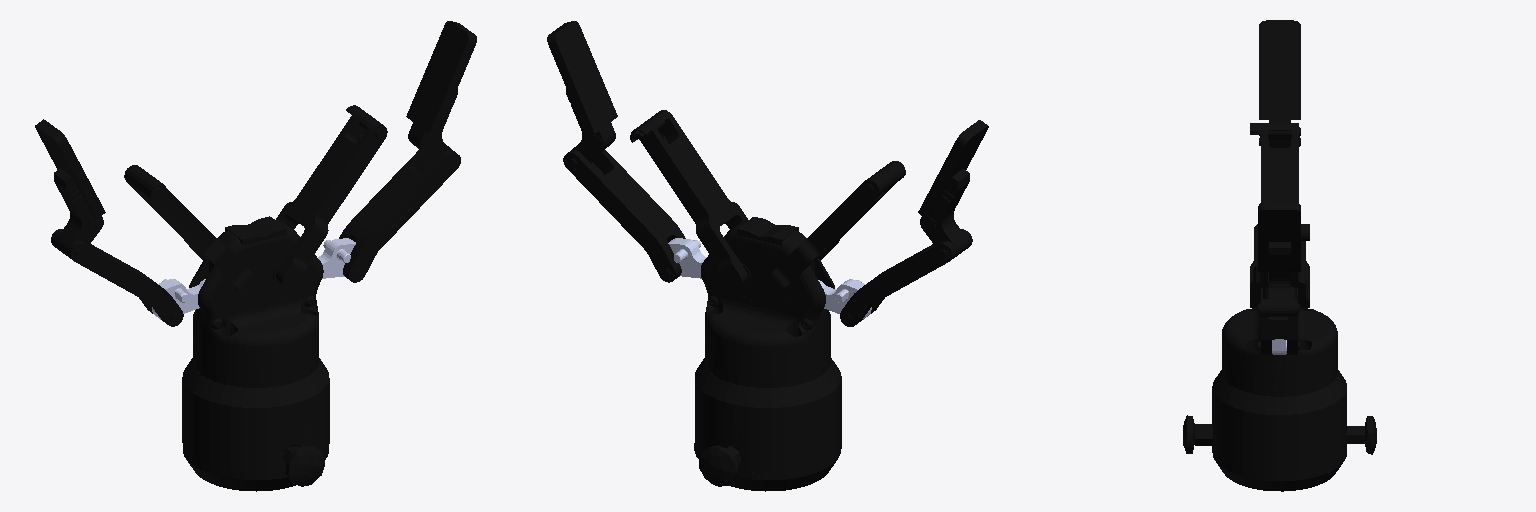
robot.urdf — robotiq_gripper:
<?xml version="1.0" ?>
<!-- =================================================================================== -->
<!-- |    This document was autogenerated by xacro from [local-path]/ros2_crystal/src/mara/robotiq_140_gripper_description/urdf/module_gripper.urdf.xacro | -->
<!-- |    EDITING THIS FILE BY HAND IS NOT RECOMMENDED                                 | -->
<!-- =================================================================================== -->
<robot name="robotiq_gripper" xmlns:xacro="http://ros.org/wiki/xacro">
  <link name="robotiq_adapter_link">
    <inertial>
      <origin rpy="0 0 0" xyz="8.625E-08 -4.6583E-06 0.03145"/>
      <mass value="0.22652"/>
      <inertia ixx="0.00020005" ixy="0" ixz="0" iyy="0.00017832" iyz="0" izz="0.00013478"/>
    </inertial>
    <visual>
      <origin rpy="0 0 0" xyz="0 0 0"/>
      <geometry>
        <mesh filename="package://robotiq_85_gripper_description/meshes/hros_robotiq_adapter.dae" scale="0.001 0.001 0.001"/>
      </geometry>
      <material name="Gazebo/Black">
        <color rgba="0.1 0.1 0.1 1"/>
      </material>
    </visual>
    <collision>
      <origin rpy="0 0 0" xyz="0 0 0"/>
      <geometry>
        <mesh filename="package://robotiq_85_gripper_description/meshes/hros_robotiq_adapter.dae" scale="0.001 0.001 0.001"/>
      </geometry>
    </collision>
  </link>
  <gazebo reference="robotiq_adapter_link">
    <material>Gazebo/Black</material>
    <selfCollide>True</selfCollide>
  </gazebo>
  <link name="robotiq_arg2f_base_link">
    <inertial>
      <origin rpy="0 0 0" xyz="8.625E-08 -4.6583E-06 0.03145"/>
      <mass value="0.22652"/>
      <inertia ixx="0.00020005" ixy="0" ixz="0" iyy="0.00017832" iyz="0" izz="0.00013478"/>
    </inertial>
    <visual>
      <origin rpy="0 0 1.57" xyz="0 0 0"/>
      <geometry>
        <mesh filename="package://robotiq_140_gripper_description/meshes/GRIPPER_base_axis.dae" scale="0.001 0.001 0.001"/>
      </geometry>
      <material name="Gazebo/Black">
        <color rgba="0.1 0.1 0.1 1"/>
      </material>
    </visual>
    <collision>
      <origin rpy="0 0 1.57" xyz="0 0 0"/>
      <geometry>
        <mesh filename="package://robotiq_140_gripper_description/meshes/GRIPPER_base_axis.dae" scale="0.001 0.001 0.001"/>
      </geometry>
    </collision>
  </link>
  <gazebo reference="robotiq_arg2f_base_link">
    <material>Gazebo/Black</material>
    <selfCollide>True</selfCollide>
  </gazebo>
  <link name="left_outer_knuckle">
    <inertial>
      <origin rpy="0 0 0" xyz="0 0 0"/>
      <mass value="0.00853198276973456"/>
      <inertia ixx="2.89328108496468E-06" ixy="0" ixz="0" iyy="1.86719750325683E-06" iyz="-1.21858577871576E-06" izz="1.21905238907251E-06"/>
    </inertial>
    <visual>
      <origin rpy="0 0 0" xyz="0 0 0"/>
      <geometry>
        <mesh filename="package://robotiq_140_gripper_description/meshes/robotiq_140_left_outer_knuckle.dae"/>
      </geometry>
      <material name="">
        <color rgba="0.792156862745098 0.819607843137255 0.933333333333333 1"/>
      </material>
    </visual>
    <collision>
      <origin rpy="0 0 0" xyz="0 0 0"/>
      <geometry>
        <mesh filename="package://robotiq_140_gripper_description/meshes/robotiq_140_left_outer_knuckle.dae"/>
      </geometry>
    </collision>
  </link>
  <gazebo reference="left_outer_knuckle">
    <material>Gazebo/Grey</material>
    <selfCollide>True</selfCollide>
  </gazebo>
  <link name="right_outer_knuckle">
    <inertial>
      <origin rpy="0 0 0" xyz="0 0 0"/>
      <mass value="0.00853198276973456"/>
      <inertia ixx="2.89328108496468E-06" ixy="0" ixz="0" iyy="1.86719750325683E-06" iyz="-1.21858577871576E-06" izz="1.21905238907251E-06"/>
    </inertial>
    <visual>
      <origin rpy="0 0 0" xyz="0 0 0"/>
      <geometry>
        <mesh filename="package://robotiq_140_gripper_description/meshes/robotiq_140_right_outer_knuckle.dae"/>
      </geometry>
      <material name="">
        <color rgba="0.792156862745098 0.819607843137255 0.933333333333333 1"/>
      </material>
    </visual>
    <collision>
      <origin rpy="0 0 0" xyz="0 0 0"/>
      <geometry>
        <mesh filename="package://robotiq_140_gripper_description/meshes/robotiq_140_right_outer_knuckle.dae"/>
      </geometry>
    </collision>
  </link>
  <gazebo reference="right_outer_knuckle">
    <material>Gazebo/Grey</material>
    <selfCollide>True</selfCollide>
  </gazebo>
  <link name="left_inner_knuckle">
    <inertial>
      <origin rpy="0 0 0" xyz="0.000123011831763771 0.0507850843201817 0.00103968640075166"/>
      <mass value="0.0271177346495152"/>
      <inertia ixx="2.61910379223783E-05" ixy="-2.43616858946494E-07" ixz="-6.37789906117123E-09" iyy="2.8270243746167E-06" iyz="-5.37200748039765E-07" izz="2.83695868220296E-05"/>
    </inertial>
    <visual>
      <origin rpy="0 0 0" xyz="0 0 0"/>
      <geometry>
        <mesh filename="package://robotiq_140_gripper_description/meshes/robotiq_140_left_inner_knuckle.dae"/>
      </geometry>
      <material name="Gazebo/Black">
        <color rgba="0.1 0.1 0.1 1"/>
      </material>
    </visual>
  </link>
  <gazebo reference="left_inner_knuckle">
    <material>Gazebo/Black</material>
    <selfCollide>True</selfCollide>
  </gazebo>
  <link name="right_inner_knuckle">
    <inertial>
      <origin rpy="0 0 0" xyz="0.000123011831763771 0.0507850843201817 0.00103968640075166"/>
      <mass value="0.0271177346495152"/>
      <inertia ixx="2.61910379223783E-05" ixy="-2.43616858946494E-07" ixz="-6.37789906117123E-09" iyy="2.8270243746167E-06" iyz="-5.37200748039765E-07" izz="2.83695868220296E-05"/>
    </inertial>
    <visual>
      <origin rpy="0 0 0" xyz="0 0 0"/>
      <geometry>
        <mesh filename="package://robotiq_140_gripper_description/meshes/robotiq_140_right_inner_knuckle.dae"/>
      </geometry>
      <material name="Gazebo/Black">
        <color rgba="0.1 0.1 0.1 1"/>
      </material>
    </visual>
  </link>
  <gazebo reference="right_inner_knuckle">
    <material>Gazebo/Black</material>
    <selfCollide>True</selfCollide>
  </gazebo>
  <link name="left_inner_finger">
    <inertial>
      <origin rpy="0 0 0" xyz="0.0 0.031506174 -0.017648840"/>
      <mass value="0.0104003125914103"/>
      <inertia ixx="6.06863499e-06" ixy="0" ixz="0" iyy="7.46305064e-07" iyz="0" izz="6.21796490e-06"/>
    </inertial>
    <visual>
      <origin rpy="0 0 0" xyz="0 0 0"/>
      <geometry>
        <mesh filename="package://robotiq_140_gripper_description/meshes/robotiq_140_left_inner_finger.dae" scale="0.001 0.001 0.001"/>
      </geometry>
      <material name="Gazebo/Black">
        <color rgba="0.1 0.1 0.1 1"/>
      </material>
    </visual>
    <collision>
      <origin rpy="0 0 0" xyz="0 0 0"/>
      <geometry>
        <mesh filename="package://robotiq_140_gripper_description/meshes/robotiq_140_left_inner_finger.dae" scale="0.001 0.001 0.001"/>
      </geometry>
    </collision>
  </link>
  <gazebo reference="left_inner_finger">
    <material>Gazebo/Black</material>
    <selfCollide>True</selfCollide>
  </gazebo>
  <link name="right_inner_finger">
    <inertial>
      <origin rpy="0 0 0" xyz="0.0 0.031506174 -0.017648840"/>
      <mass value="0.0104003125914103"/>
      <inertia ixx="6.06863499e-06" ixy="0" ixz="0" iyy="7.46305064e-07" iyz="0" izz="6.21796490e-06"/>
    </inertial>
    <visual>
      <origin rpy="0 0 0" xyz="0 0 0"/>
      <geometry>
        <mesh filename="package://robotiq_140_gripper_description/meshes/robotiq_140_right_inner_finger.dae" scale="0.001 0.001 0.001"/>
      </geometry>
      <material name="Gazebo/Black">
        <color rgba="0.1 0.1 0.1 1"/>
      </material>
    </visual>
    <collision>
      <origin rpy="0 0 0" xyz="0 0 0"/>
      <geometry>
        <mesh filename="package://robotiq_140_gripper_description/meshes/robotiq_140_right_inner_finger.dae" scale="0.001 0.001 0.001"/>
      </geometry>
    </collision>
  </link>
  <gazebo reference="right_inner_finger">
    <material>Gazebo/Black</material>
    <selfCollide>True</selfCollide>
  </gazebo>
  <link name="left_outer_finger">
    <inertial>
      <origin rpy="0 0 0" xyz="0.00030115855001899 0.0373907951953854 -0.0208027427000385"/>
      <mass value="0.022614240507152"/>
      <inertia ixx="1.52518312458174E-05" ixy="9.76583423954399E-10" ixz="-5.43838577022588E-10" iyy="6.17694243867776E-06" iyz="6.78636130740228E-06" izz="1.16494917907219E-05"/>
    </inertial>
    <visual>
      <origin rpy="0 0 0" xyz="0 0 0"/>
      <geometry>
        <mesh filename="package://robotiq_140_gripper_description/meshes/robotiq_140_left_outer_finger.dae"/>
      </geometry>
      <material name="Gazebo/Black">
        <color rgba="0.1 0.1 0.1 1"/>
      </material>
    </visual>
    <collision>
      <origin rpy="0 0 0" xyz="0 0 0"/>
      <geometry>
        <mesh filename="package://robotiq_140_gripper_description/meshes/robotiq_140_left_outer_finger.dae"/>
      </geometry>
    </collision>
  </link>
  <gazebo reference="left_outer_finger">
    <material>Gazebo/Black</material>
    <selfCollide>True</selfCollide>
  </gazebo>
  <link name="right_outer_finger">
    <inertial>
      <origin rpy="0 0 0" xyz="0.00030115855001899 0.0373907951953854 -0.0208027427000385"/>
      <mass value="0.022614240507152"/>
      <inertia ixx="1.52518312458174E-05" ixy="9.76583423954399E-10" ixz="-5.43838577022588E-10" iyy="6.17694243867776E-06" iyz="6.78636130740228E-06" izz="1.16494917907219E-05"/>
    </inertial>
    <visual>
      <origin rpy="0 0 0" xyz="0 0 0"/>
      <geometry>
        <mesh filename="package://robotiq_140_gripper_description/meshes/robotiq_140_right_outer_finger.dae"/>
      </geometry>
      <material name="Gazebo/Black">
        <color rgba="0.1 0.1 0.1 1"/>
      </material>
    </visual>
    <collision>
      <origin rpy="0 0 0" xyz="0 0 0"/>
      <geometry>
        <mesh filename="package://robotiq_140_gripper_description/meshes/robotiq_140_right_outer_finger.dae"/>
      </geometry>
    </collision>
  </link>
  <gazebo reference="right_outer_finger">
    <material>Gazebo/Black</material>
    <selfCollide>True</selfCollide>
  </gazebo>
  <joint name="base_adapter_to_base_robotiq_joint" type="fixed">
    <origin rpy="0 0 0" xyz=" 0 0 0.03653"/>
    <parent link="robotiq_adapter_link"/>
    <child link="robotiq_arg2f_base_link"/>
  </joint>
  <joint name="left_outer_knuckle_joint" type="revolute">
    <origin rpy="2.31 0 0" xyz="0 -0.030601 0.054905"/>
    <parent link="robotiq_arg2f_base_link"/>
    <child link="left_outer_knuckle"/>
    <axis xyz="-1 0 0"/>
    <limit effort="1000" lower="0" upper="0.78" velocity="2.0"/>
  </joint>
  <joint name="right_outer_knuckle_joint" type="revolute">
    <origin rpy="2.31 0 3.14159265359" xyz="0 0.030601 0.054905"/>
    <parent link="robotiq_arg2f_base_link"/>
    <child link="right_outer_knuckle"/>
    <axis xyz="-1 0 0"/>
    <limit effort="1000" lower="0" upper="0.78" velocity="2.0"/>
  </joint>
  <joint name="left_inner_knuckle_joint" type="revolute">
    <origin rpy="2.29 0 0" xyz="0 -0.0127 0.06142"/>
    <parent link="robotiq_arg2f_base_link"/>
    <child link="left_inner_knuckle"/>
    <axis xyz="-1 0 0"/>
    <limit effort="1000" lower="0" upper="0.78" velocity="2.0"/>
  </joint>
  <joint name="right_inner_knuckle_joint" type="revolute">
    <origin rpy="2.29 0 -3.14159265359" xyz="0 0.0127 0.06142"/>
    <parent link="robotiq_arg2f_base_link"/>
    <child link="right_inner_knuckle"/>
    <axis xyz="-1 0 0"/>
    <limit effort="1000" lower="0" upper="0.78" velocity="2.0"/>
  </joint>
  <joint name="left_outer_finger_joint" type="revolute">
    <origin rpy="0 0 0" xyz="0 0.01821998610742 0.0260018192872234"/>
    <parent link="left_outer_knuckle"/>
    <child link="left_outer_finger"/>
    <axis xyz="-1 0 0"/>
    <limit effort="1000" lower="-0.875" upper="-0.0075" velocity="2.0"/>
  </joint>
  <joint name="right_outer_finger_joint" type="revolute">
    <origin rpy="0 0 0" xyz="0 0.01821998610742 0.0260018192872234"/>
    <parent link="right_outer_knuckle"/>
    <child link="right_outer_finger"/>
    <axis xyz="-1 0 0"/>
    <limit effort="1000" lower="-0.875" upper="-0.0075" velocity="2.0"/>
  </joint>
  <joint name="left_inner_finger_joint" type="revolute">
    <origin rpy="-.725 0 0" xyz="0 0.0817554015893473 -0.0282203446692936"/>
    <parent link="left_outer_finger"/>
    <child link="left_inner_finger"/>
    <axis xyz="1 0 0"/>
    <limit effort="1000" lower="-0.875" upper="0.8757" velocity="2.0"/>
  </joint>
  <joint name="right_inner_finger_joint" type="revolute">
    <origin rpy="-.725 0 0" xyz="0 0.0817554015893473 -0.0282203446692936"/>
    <parent link="right_outer_finger"/>
    <child link="right_inner_finger"/>
    <axis xyz="1 0 0"/>
    <limit effort="1000" lower="-0.875" upper="0.8757" velocity="2.0"/>
  </joint>
  <gazebo>
    <joint name="left_inner_finger_knuckle_joint" type="revolute">
      <pose frame="">0 0.006 -0.018 0 0 0</pose>
      <parent>robotiq_140::left_inner_knuckle</parent>
      <child>robotiq_140::left_inner_finger</child>
      <axis>
        <xyz>1 0 0</xyz>
        <limit>
          <lower>-0.8</lower>
          <upper>0.8</upper>
          <velocity>2.0</velocity>
          <effort>1000</effort>
        </limit>
      </axis>
    </joint>
    <joint name="right_inner_finger_knuckle_joint" type="revolute">
      <pose frame="">0 0.006 -0.018 0 0 0</pose>
      <parent>robotiq_140::right_inner_knuckle</parent>
      <child>robotiq_140::right_inner_finger</child>
      <axis>
        <xyz>-1 0 0</xyz>
        <limit>
          <lower>-0.8</lower>
          <upper>0.8</upper>
          <velocity>2.0</velocity>
          <effort>1000</effort>
        </limit>
      </axis>
    </joint>
    <plugin filename="librobotiq_angular_gripper_gazebo_plugin.so" name="robotiq_140_gripper">
      <left_joint>left_inner_knuckle_joint</left_joint>
      <left_joint>left_outer_knuckle_joint</left_joint>
      <right_joint>right_inner_knuckle_joint</right_joint>
      <right_joint>right_outer_knuckle_joint</right_joint>
    </plugin>
  </gazebo>
  <link name="world"/>
  <joint name="world_to_hande_joint" type="fixed">
    <origin rpy="0 0 1.57" xyz="0 0 0.5"/>
    <parent link="world"/>
    <child link="robotiq_adapter_link"/>
  </joint>
</robot>

--- Facts derived from the render (not from the file) ---
Views: 3 orthographic renders of the robot side by side, from view 1: azimuth 30°, elevation 25°; view 2: azimuth 150°, elevation 25°; view 3: azimuth 270°, elevation 25°.
Robot: robotiq_gripper — 11 links, 10 joints (8 revolute, 2 fixed); root link world; default pose: joints at zero except 2 at the middle of their limits (left_outer_finger_joint = -0.4412, right_outer_finger_joint = -0.4412).
Links seen in each view (by area): view 1: robotiq_arg2f_base_link, robotiq_adapter_link, left_inner_knuckle, left_outer_finger, left_inner_finger, right_inner_knuckle, right_inner_finger, right_outer_finger, left_outer_knuckle, right_outer_knuckle; view 2: robotiq_arg2f_base_link, robotiq_adapter_link, left_inner_knuckle, left_outer_finger, left_inner_finger, right_inner_knuckle, right_inner_finger, right_outer_finger, left_outer_knuckle, right_outer_knuckle; view 3: robotiq_adapter_link, robotiq_arg2f_base_link, right_inner_finger, left_inner_finger, right_inner_knuckle, left_outer_finger, left_inner_knuckle.
Boxes of the visible links, x1,y1,x2,y2 form: robotiq_arg2f_base_link: (189, 216, 323, 387); robotiq_adapter_link: (182, 358, 329, 491); left_inner_knuckle: (276, 105, 387, 288); left_outer_finger: (339, 150, 460, 282); left_inner_finger: (406, 21, 476, 161); right_inner_knuckle: (124, 165, 262, 297); right_inner_finger: (35, 119, 105, 255); right_outer_finger: (51, 229, 183, 326); left_outer_knuckle: (318, 238, 355, 278); right_outer_knuckle: (152, 279, 205, 319); robotiq_arg2f_base_link: (701, 217, 834, 387); robotiq_adapter_link: (694, 358, 841, 491); left_inner_knuckle: (630, 110, 747, 288); left_outer_finger: (563, 150, 685, 282); left_inner_finger: (547, 21, 617, 161); right_inner_knuckle: (761, 161, 905, 297); right_inner_finger: (918, 120, 988, 255); right_outer_finger: (840, 229, 972, 326); left_outer_knuckle: (668, 238, 706, 278); right_outer_knuckle: (818, 279, 871, 319); robotiq_adapter_link: (1183, 370, 1376, 491); robotiq_arg2f_base_link: (1222, 287, 1337, 396); right_inner_finger: (1259, 20, 1300, 147); left_inner_finger: (1258, 202, 1300, 316); right_inner_knuckle: (1250, 123, 1309, 283); left_outer_finger: (1258, 299, 1299, 354); left_inner_knuckle: (1250, 224, 1309, 307).
Bounding box of the posed robot: 0.2884 × 0.1257 × 0.2532 m (x, y, z).
Meshes: 10 distinct files referenced, 10 mesh visuals loaded (10 Collada DAE).
